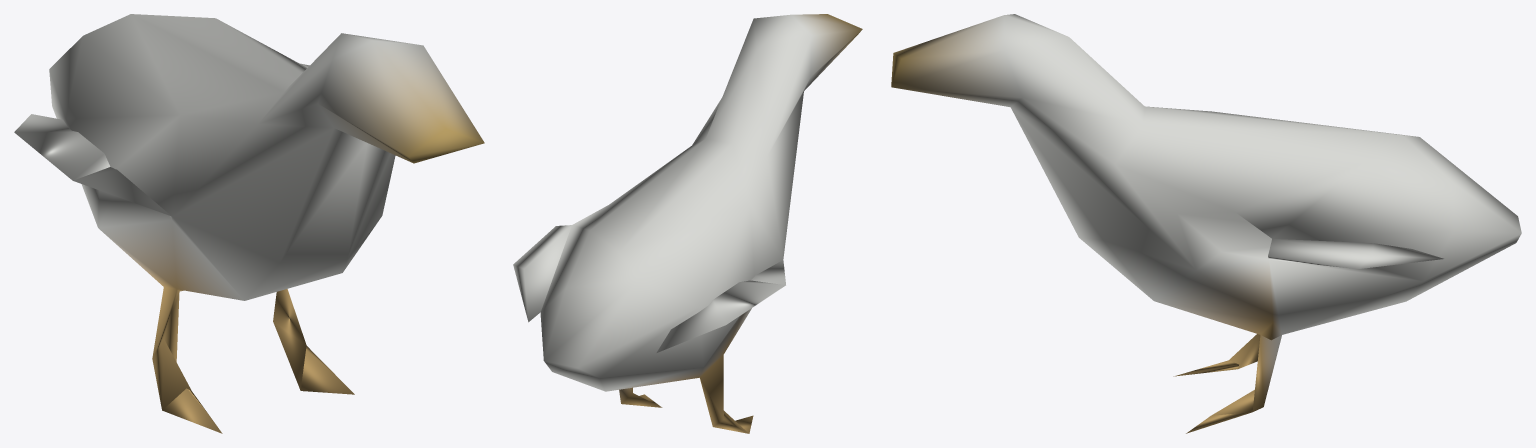
File: duck-1.glb
3 views of the same model, side by side, from view 1: azimuth 30°, elevation 25°; view 2: azimuth 150°, elevation 25°; view 3: azimuth 270°, elevation 25° (orthographic). The views are drawn at different scales.
Parts seen in each view (by area): view 1: duck; view 2: duck; view 3: duck.
Boxes of the visible parts, x1=… form: duck: x1=14, y1=14, x2=484, y2=433; duck: x1=513, y1=14, x2=862, y2=433; duck: x1=891, y1=14, x2=1521, y2=433.
Size of the model in its own units: 0.2833 by 0.3962 by 0.5928.
